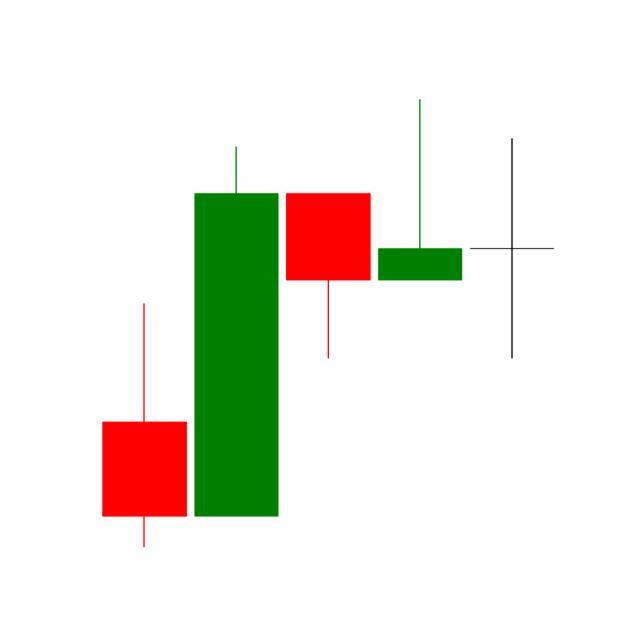Spinning Top: (466, 136, 559, 362)
